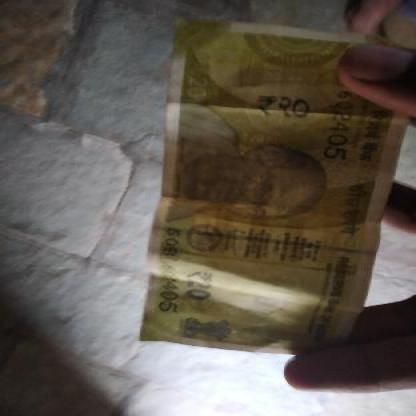New20Front: (153, 28, 379, 348)
